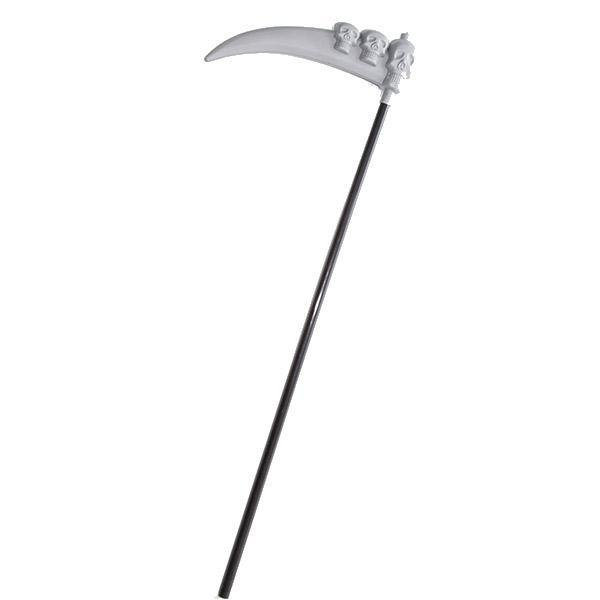foice: (202, 15, 414, 288)
